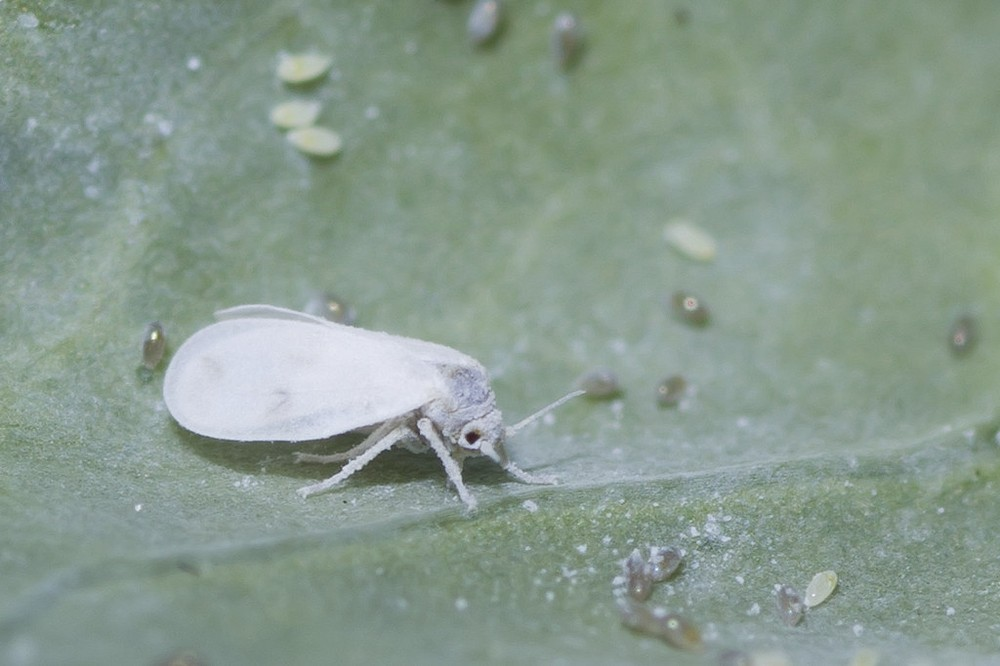Mosca Blanca: (159, 285, 577, 530)
